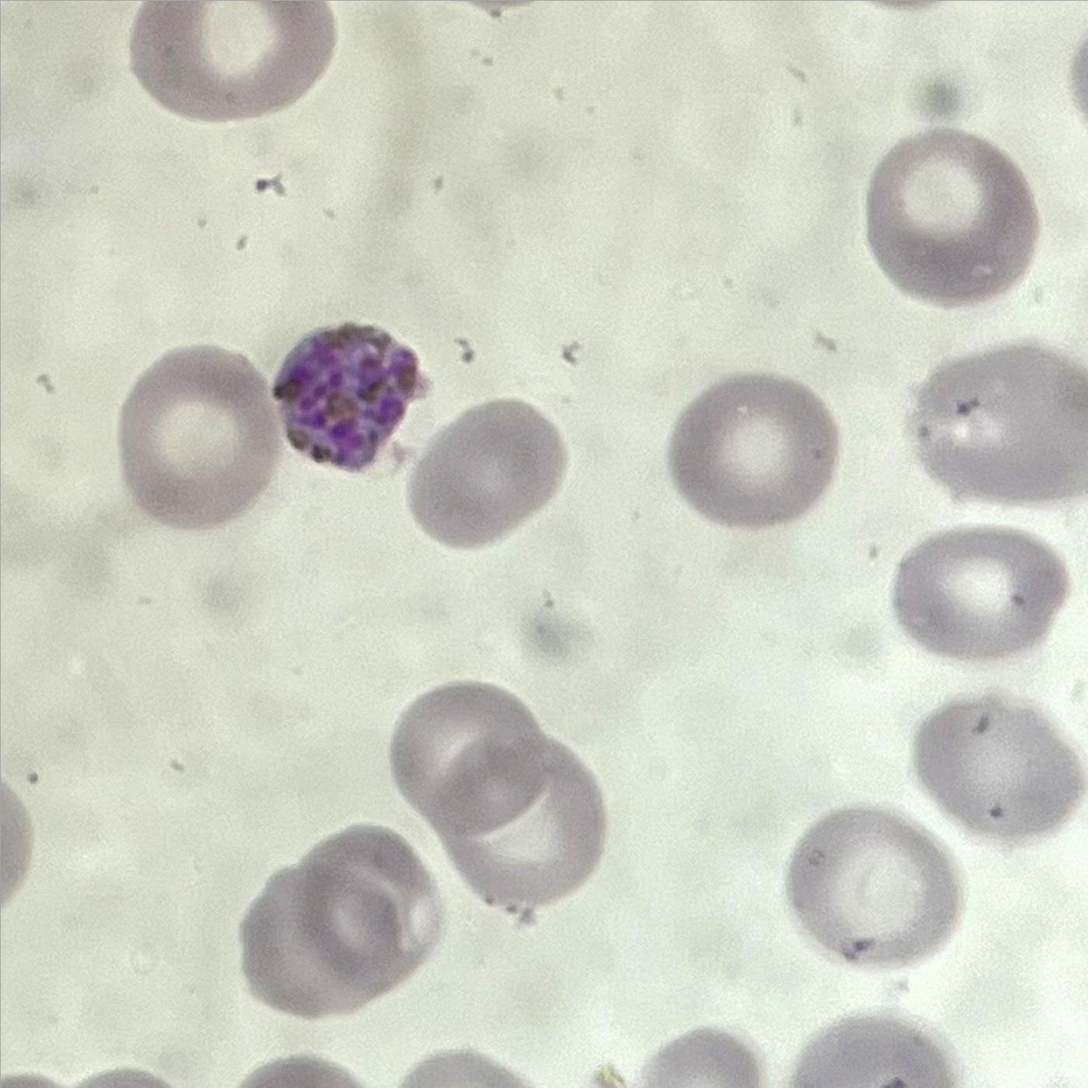Infected: (272, 315, 431, 473)
Uninfected: (863, 127, 1039, 310), (902, 346, 1088, 510), (117, 343, 272, 534), (434, 733, 607, 901), (789, 803, 964, 969), (663, 374, 837, 529), (121, 0, 336, 122), (401, 399, 565, 552), (916, 700, 1088, 834), (889, 531, 1062, 664), (387, 675, 543, 820), (296, 827, 439, 982), (239, 871, 389, 1014)
